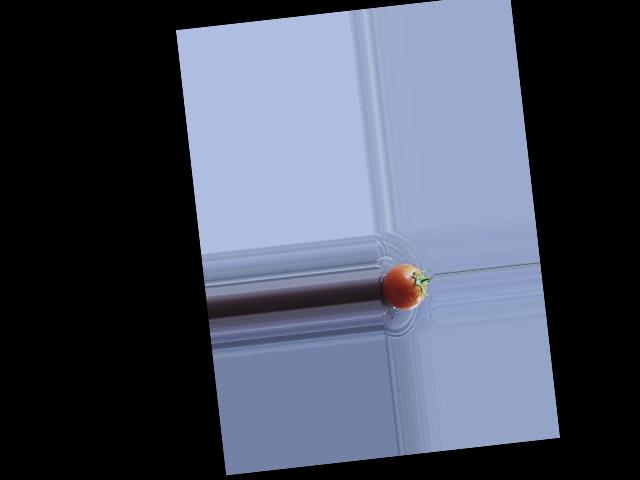tomato: (379, 262, 428, 312)
